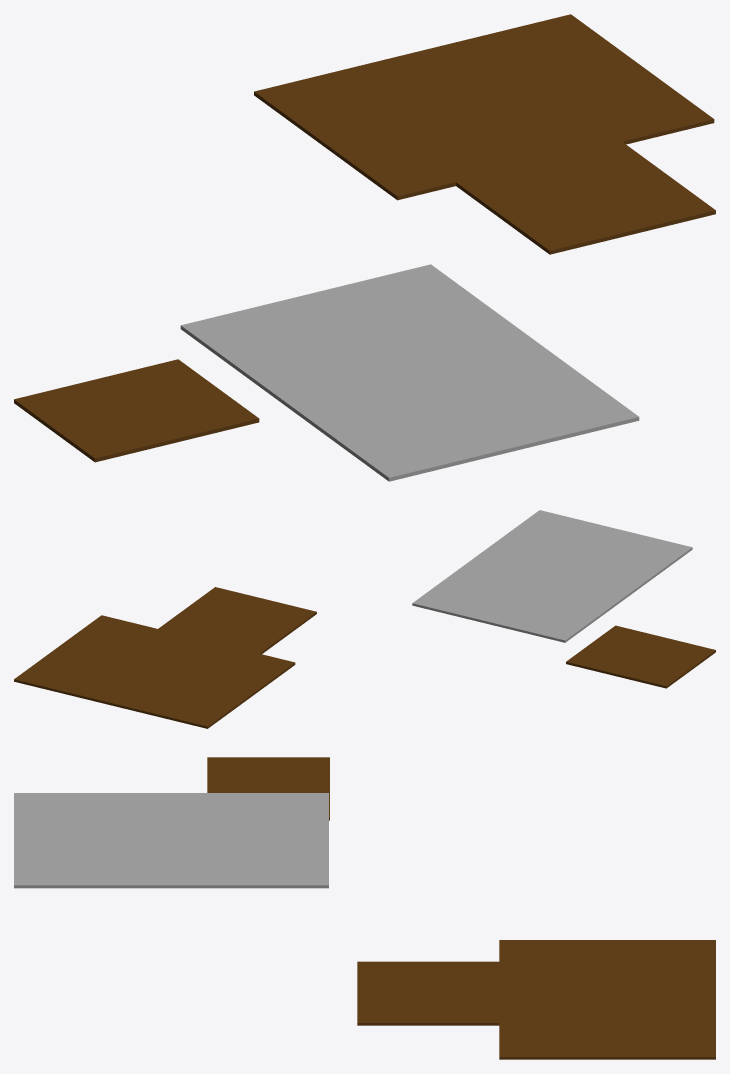
The model's file is house_ds_roof_01.fbx.
The picture shows the model from 3 angles, top to bottom: view 1: azimuth 30°, elevation 25°; view 2: azimuth 150°, elevation 25°; view 3: azimuth 270°, elevation 25°; orthographic projection. The views are drawn at different scales.
Visible parts, largest first — view 1: polySurface1478; view 2: polySurface1478; view 3: polySurface1478.
Part boxes in pixels (x1,y1,x2,y2): polySurface1478: (14, 14, 715, 481); polySurface1478: (14, 510, 715, 728); polySurface1478: (14, 757, 715, 1059).
Size of the model in its own units: 22 by 0.975 by 21.77.
